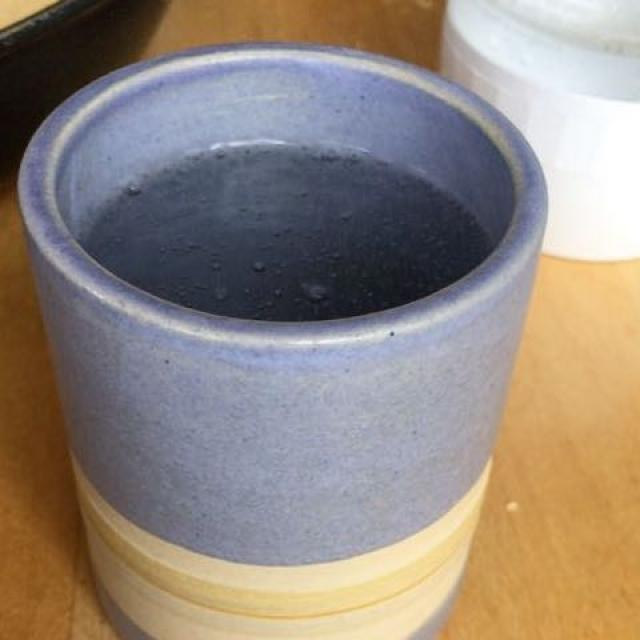water: (91, 143, 487, 321)
